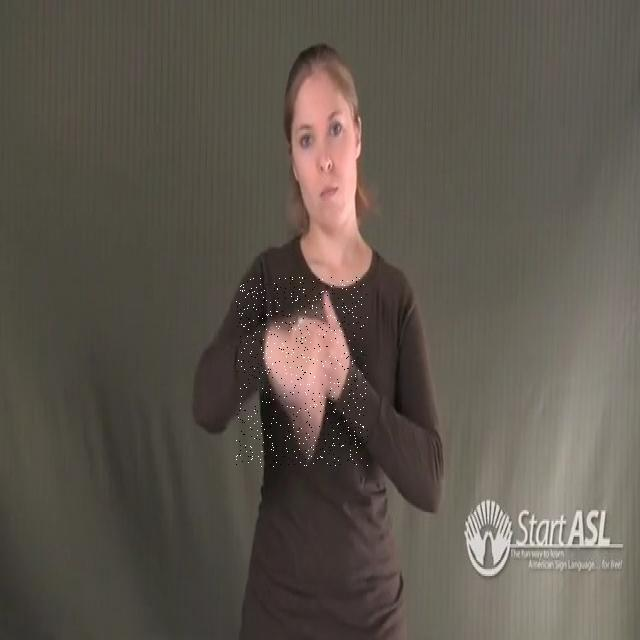bread: (236, 277, 368, 467)
